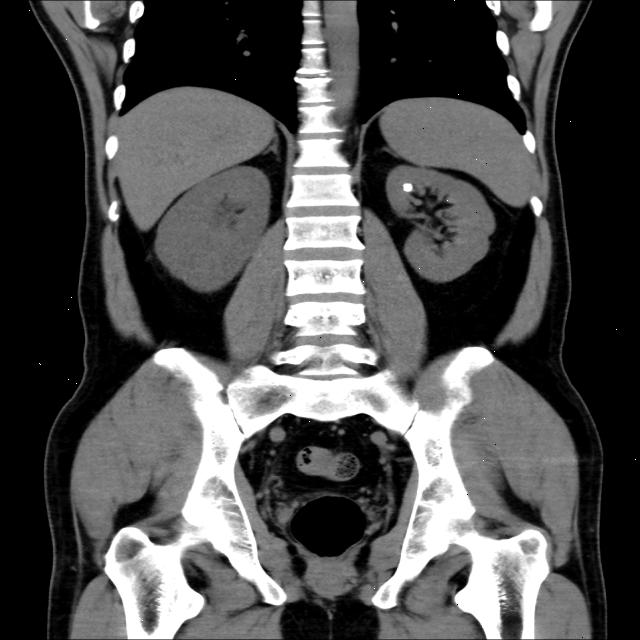kidneystone: (402, 182, 413, 192)
